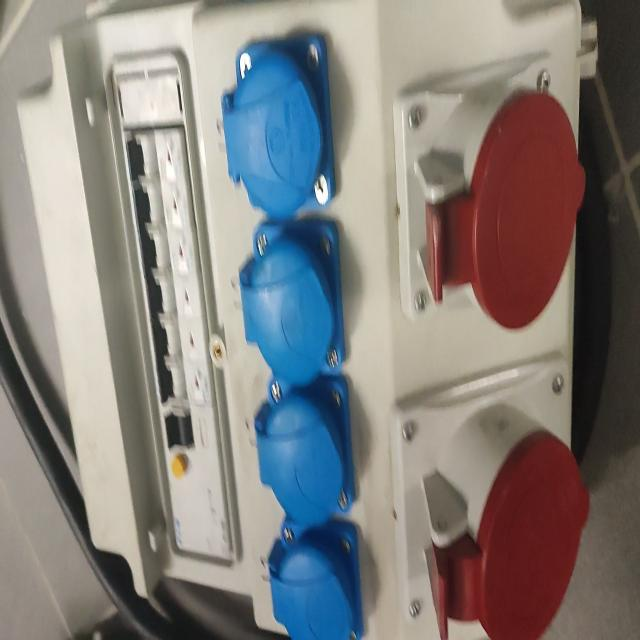400v socket: (391, 350, 589, 640), (392, 50, 585, 328)
house plug covered: (220, 34, 333, 218), (239, 215, 347, 383), (254, 369, 354, 523), (269, 515, 364, 640)
